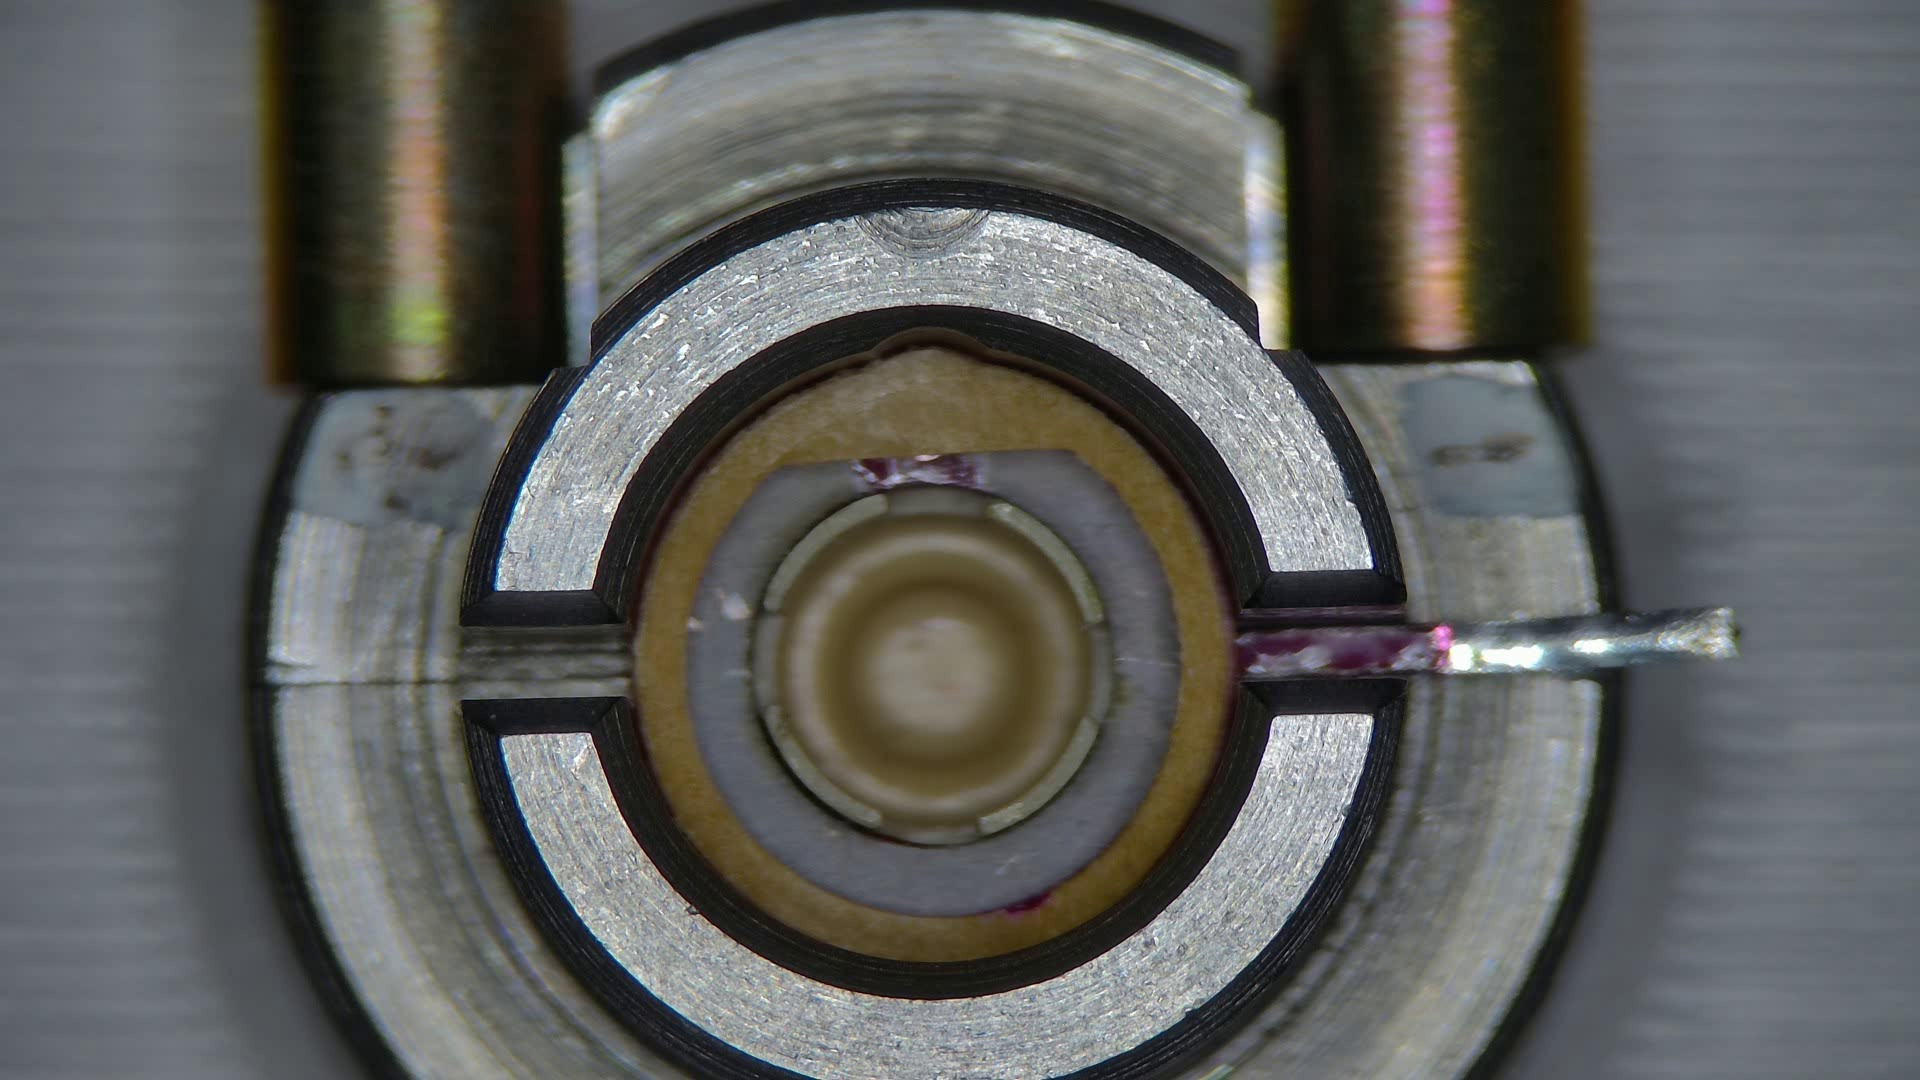YellowOring: (690, 455, 1176, 916)
redOring: (636, 348, 1232, 961)
